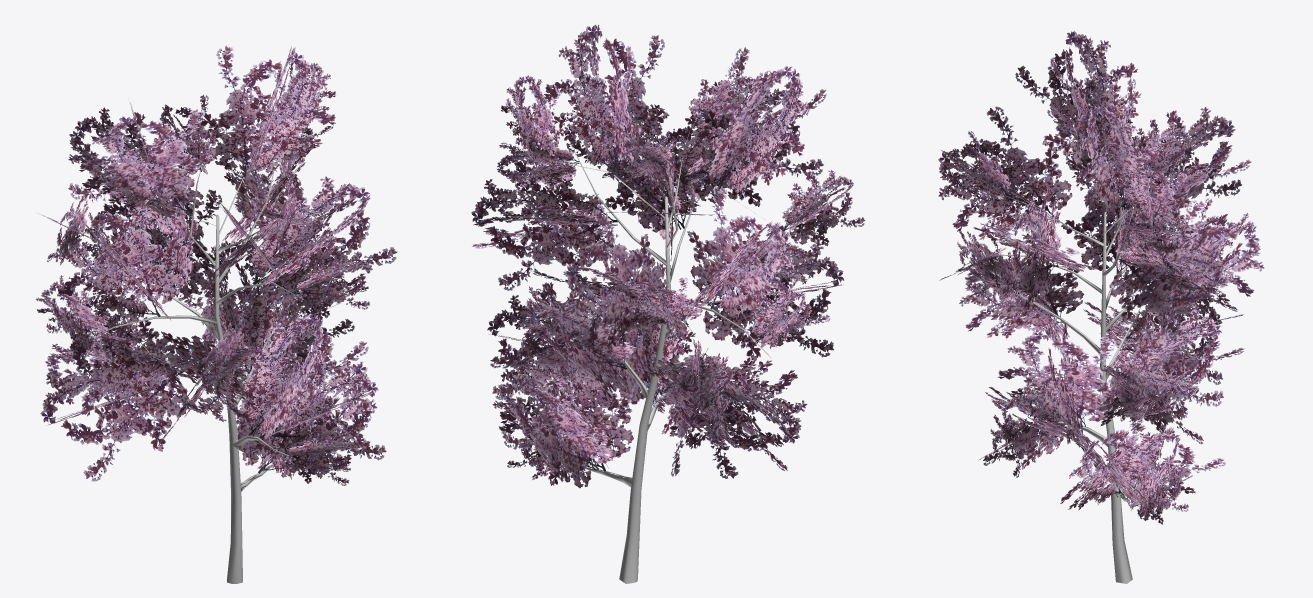
The model's file is TreeWaxCherry-red4.fbx.
The picture shows the model from 3 angles, left to right: view 1: azimuth 30°, elevation 25°; view 2: azimuth 150°, elevation 25°; view 3: azimuth 270°, elevation 25°; orthographic projection. The views are drawn at different scales.
Visible parts, largest first — view 1: TreeWaxCherry-red4_LOD0; view 2: TreeWaxCherry-red4_LOD0; view 3: TreeWaxCherry-red4_LOD0.
Boxes of the visible parts, left/top/right/bottom form: TreeWaxCherry-red4_LOD0: left=35, top=46, right=397, bottom=583; TreeWaxCherry-red4_LOD0: left=471, top=24, right=865, bottom=583; TreeWaxCherry-red4_LOD0: left=938, top=30, right=1264, bottom=583.
Size of what is drawn, in the model's own units: 275 by 388 by 265.
